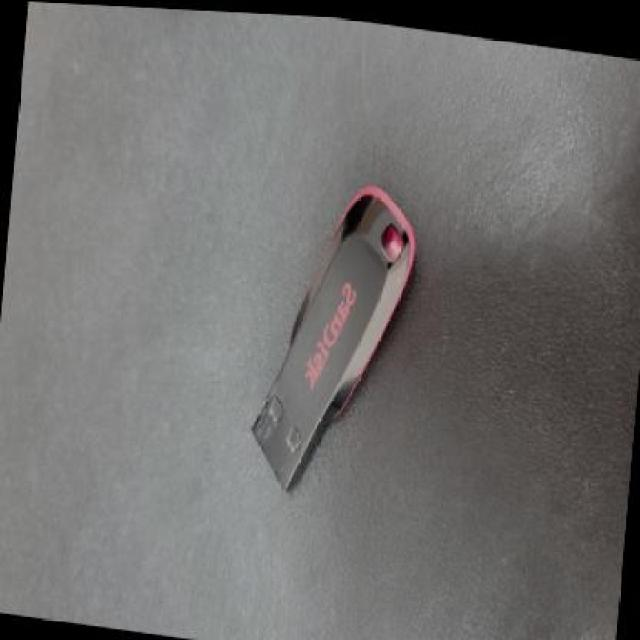Flashdisk: (243, 165, 422, 507)
